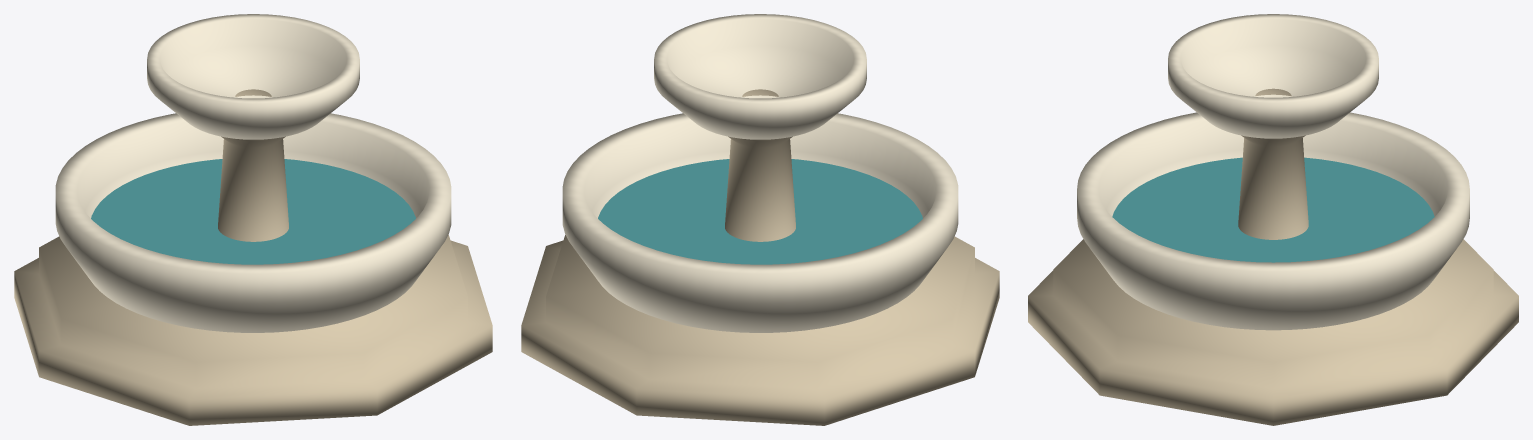
File: courtyard-fountain.glb
3 views of the same model, side by side, from view 1: azimuth 30°, elevation 25°; view 2: azimuth 150°, elevation 25°; view 3: azimuth 270°, elevation 25° (orthographic).
Visible parts, largest first — view 1: courtyard-fountain__marble, courtyard-fountain__limestone, courtyard-fountain__water; view 2: courtyard-fountain__marble, courtyard-fountain__limestone, courtyard-fountain__water; view 3: courtyard-fountain__marble, courtyard-fountain__limestone, courtyard-fountain__water.
Boxes of the visible parts, x1,y1,x2,y2 form: courtyard-fountain__marble: (55, 14, 451, 332); courtyard-fountain__limestone: (14, 89, 492, 425); courtyard-fountain__water: (91, 159, 415, 264); courtyard-fountain__marble: (562, 14, 958, 332); courtyard-fountain__limestone: (521, 89, 999, 425); courtyard-fountain__water: (598, 159, 922, 264); courtyard-fountain__marble: (1077, 14, 1469, 330); courtyard-fountain__limestone: (1028, 88, 1518, 425); courtyard-fountain__water: (1112, 157, 1434, 262).
Bounding box in the file's own units: 2.7 × 1.6 × 2.7.
